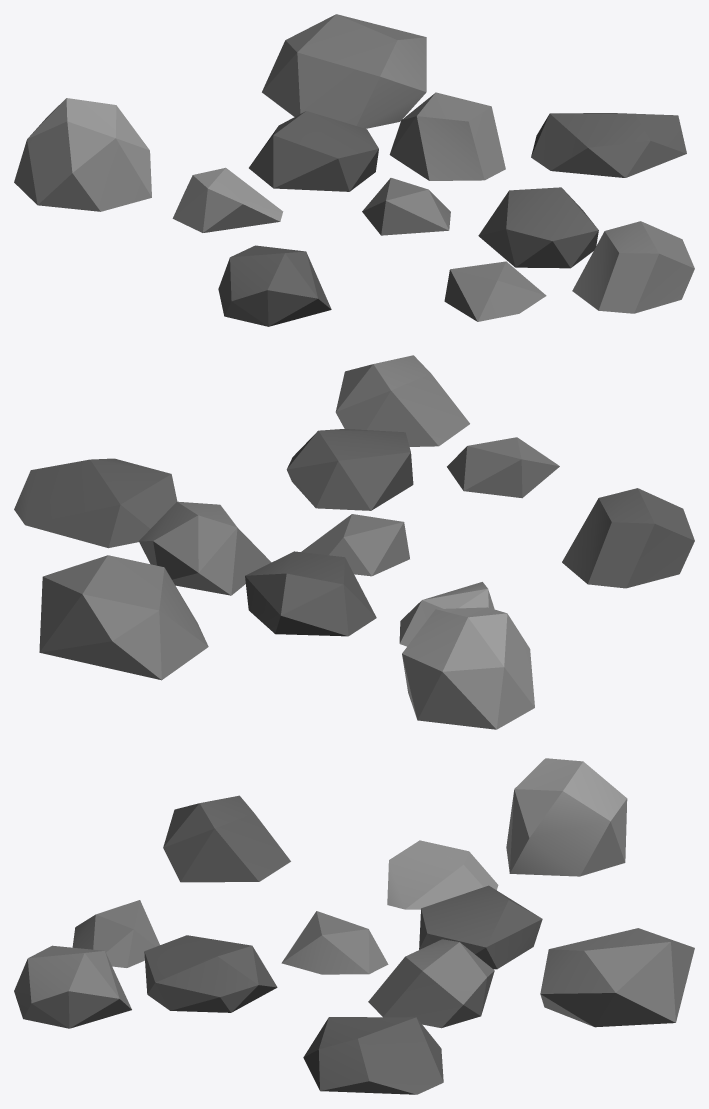
The model's file is EA03_Environment_Rock_CatHead_01a.glb.
3 renders of one model, top to bottom at view 1: azimuth 30°, elevation 25°; view 2: azimuth 150°, elevation 25°; view 3: azimuth 270°, elevation 25°, orthographic. The views are drawn at different scales.
Parts seen in each view (by area): view 1: EA03_Environment_Rock_CatHead_01a; view 2: EA03_Environment_Rock_CatHead_01a; view 3: EA03_Environment_Rock_CatHead_01a.
Boxes of the visible parts, <box> form: EA03_Environment_Rock_CatHead_01a: <box>14,14,694,326</box>; EA03_Environment_Rock_CatHead_01a: <box>14,355,694,729</box>; EA03_Environment_Rock_CatHead_01a: <box>14,758,694,1094</box>.
Size of the model in its own units: 4.55 by 0.6834 by 4.74.
1 material, 1 textured.
